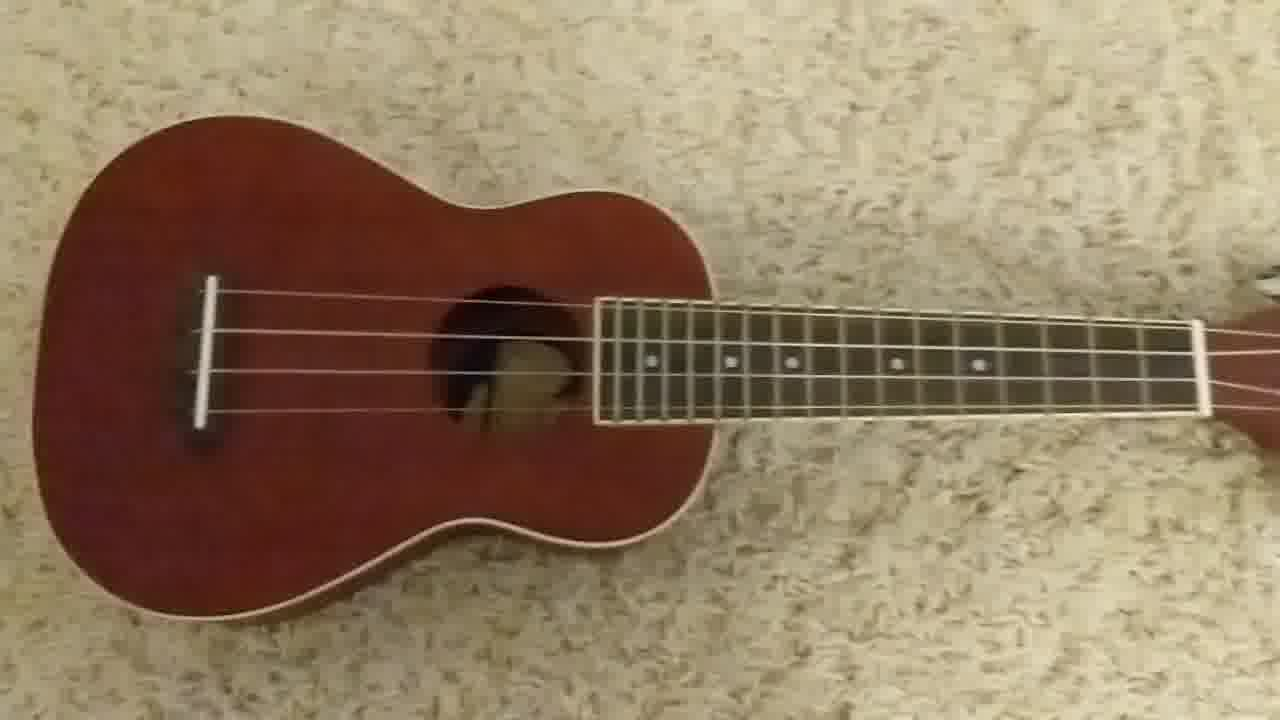Body: (31, 99, 713, 634)
Bridge: (178, 270, 232, 436)
Headstock: (1205, 262, 1280, 470)
